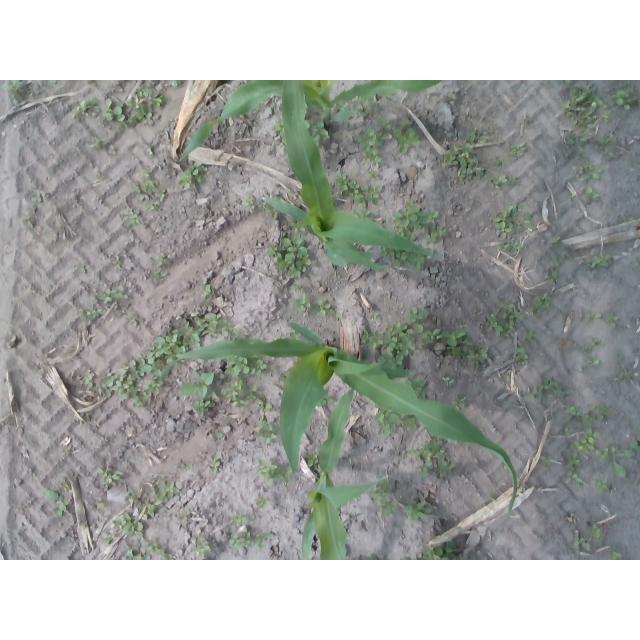Maize: (161, 321, 517, 515), (264, 81, 431, 271), (179, 81, 443, 163), (301, 388, 385, 561)
Weeds: (364, 306, 493, 370), (561, 80, 619, 204), (565, 400, 640, 493), (112, 475, 180, 539), (96, 359, 161, 410), (354, 116, 422, 161), (101, 88, 167, 132), (393, 198, 448, 242), (335, 173, 386, 220), (492, 202, 537, 255), (400, 439, 456, 481), (440, 129, 489, 177), (222, 357, 270, 405), (269, 238, 316, 283), (227, 514, 278, 555), (77, 283, 129, 321), (178, 312, 243, 342), (294, 283, 344, 318), (483, 302, 525, 338), (135, 169, 169, 212), (147, 329, 187, 364), (531, 376, 572, 409), (374, 478, 403, 523), (179, 367, 217, 398), (574, 522, 606, 558), (124, 540, 178, 561), (255, 402, 280, 446), (383, 249, 432, 271), (45, 483, 75, 518), (333, 99, 379, 121), (178, 161, 211, 190), (546, 233, 565, 283), (260, 458, 293, 483), (403, 500, 436, 525), (419, 541, 462, 560), (612, 353, 636, 386), (374, 411, 403, 438), (581, 339, 603, 373), (530, 291, 554, 321), (609, 89, 640, 111), (307, 121, 332, 148), (96, 466, 124, 490), (1, 80, 27, 104), (117, 206, 143, 230), (154, 253, 174, 284), (75, 97, 101, 120), (491, 174, 524, 190), (191, 399, 215, 420), (190, 536, 210, 561), (509, 141, 531, 160), (588, 254, 613, 270), (207, 421, 225, 443), (78, 369, 95, 391), (414, 378, 431, 399), (175, 505, 191, 527), (209, 451, 224, 474), (201, 283, 220, 301), (254, 492, 271, 511), (514, 347, 530, 367), (525, 328, 539, 350), (275, 122, 287, 147), (582, 313, 602, 327), (289, 222, 310, 235), (403, 417, 421, 431), (241, 195, 255, 213), (110, 254, 126, 269), (452, 397, 469, 411), (133, 315, 148, 330), (493, 157, 508, 172), (523, 112, 537, 128), (308, 452, 320, 470), (607, 549, 626, 560), (92, 497, 109, 509), (24, 212, 36, 229), (101, 532, 115, 546), (608, 315, 620, 330), (32, 190, 46, 202), (620, 215, 636, 224), (542, 457, 555, 468), (289, 332, 304, 341), (172, 80, 188, 88), (8, 335, 17, 349), (94, 137, 106, 147), (448, 92, 458, 102), (443, 376, 455, 384), (520, 82, 528, 91), (146, 146, 154, 155)
